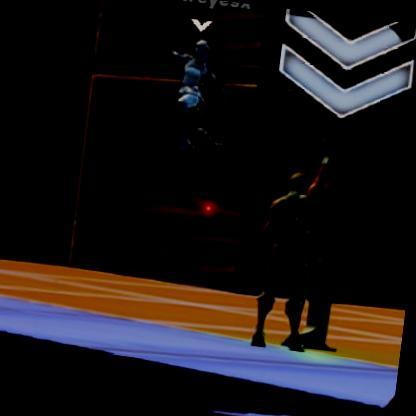person: (244, 174, 324, 353), (164, 38, 223, 148)
